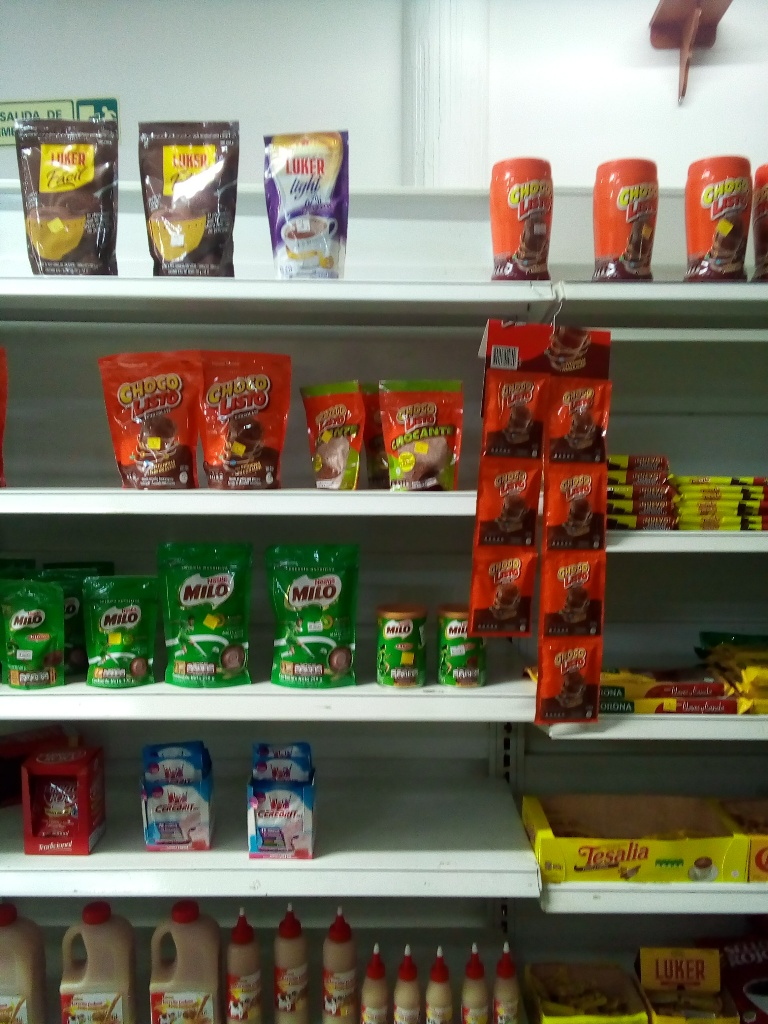COL0170102DYP10000: (301, 380, 372, 491)
COL0170103DYP20000: (191, 355, 298, 492)
COL0170103SOB02000: (483, 372, 546, 453)
COL0170103TRR30000: (491, 159, 556, 279)
COL0170203DYP10000: (83, 578, 158, 690)
COL0170203DYP25000: (273, 539, 360, 691)
COL0170203LAT20000: (377, 606, 430, 689)
